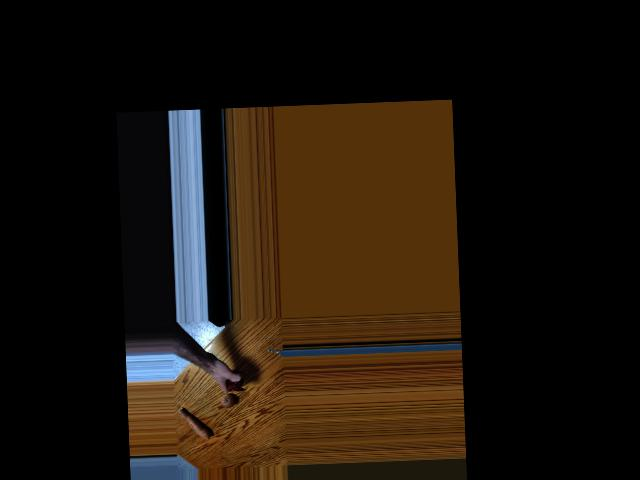onion: (215, 389, 233, 407)
